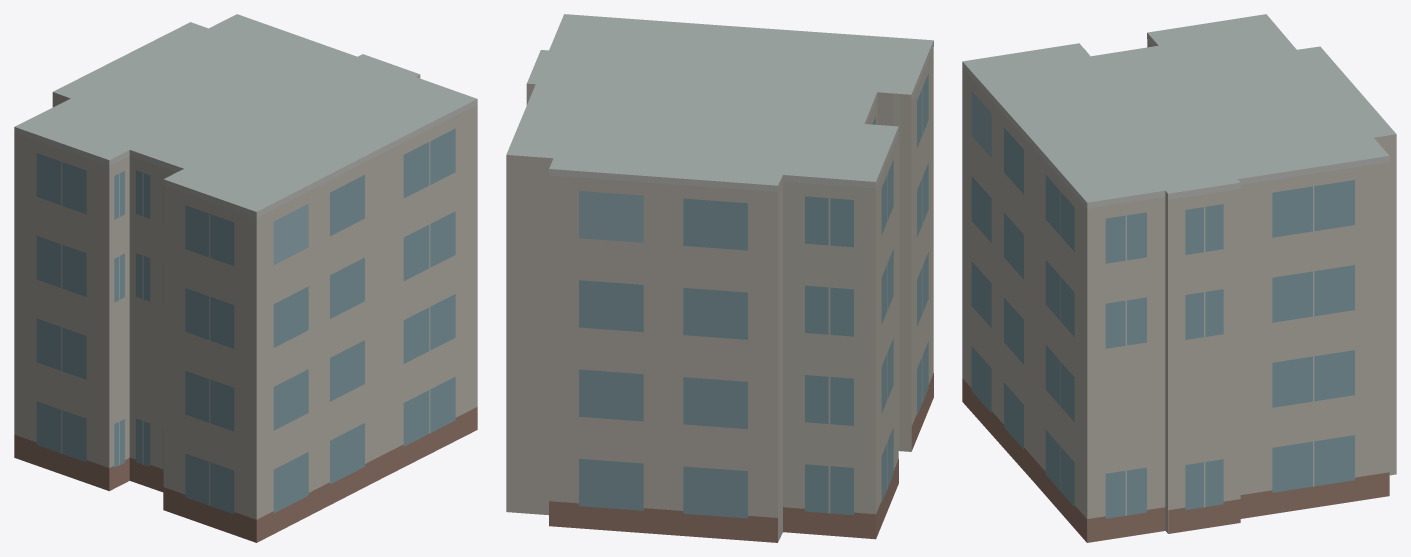
The model's file is survey-upis-32858146.glb.
3 renders of one model, left to right at view 1: azimuth 30°, elevation 25°; view 2: azimuth 150°, elevation 25°; view 3: azimuth 270°, elevation 25°, orthographic. The views are drawn at different scales.
Visible parts, largest first — view 1: survey-upis-32858146.tmp; view 2: survey-upis-32858146.tmp; view 3: survey-upis-32858146.tmp.
Part boxes in pixels (<box>): survey-upis-32858146.tmp: <box>14,14,477,542</box>; survey-upis-32858146.tmp: <box>506,14,933,542</box>; survey-upis-32858146.tmp: <box>962,14,1396,542</box>.
Size of the model in its own units: 16.06 by 13.5 by 15.63.
